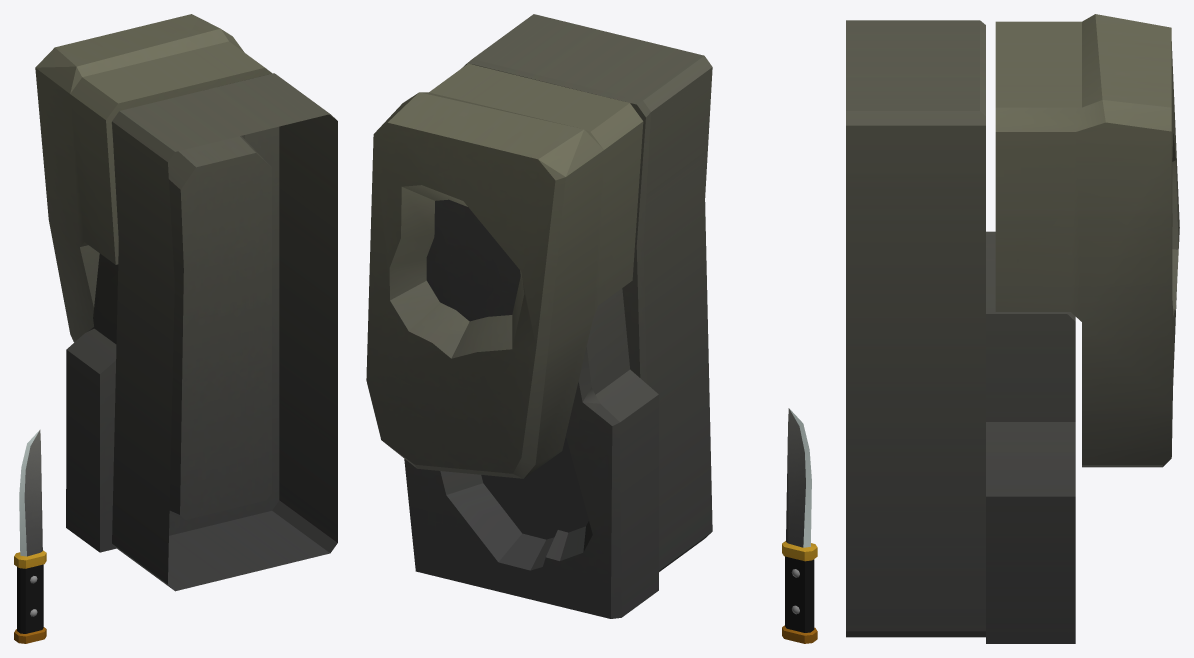
The model's file is treasureknife.FBX.
3 renders of one model, left to right at view 1: azimuth 30°, elevation 25°; view 2: azimuth 150°, elevation 25°; view 3: azimuth 270°, elevation 25°, orthographic. The views are drawn at different scales.
Visible parts, largest first — view 1: treasure, T_cover01, T_cover02, knife; view 2: T_cover01, T_cover02, treasure, knife; view 3: treasure, T_cover01, T_cover02.
Boxes of the visible parts, x1,y1,x2,y2 form: treasure: (111, 73, 337, 591); T_cover01: (35, 14, 272, 342); T_cover02: (66, 253, 118, 552); knife: (14, 429, 46, 643); T_cover01: (366, 63, 643, 478); T_cover02: (404, 288, 658, 618); treasure: (462, 14, 712, 571); knife: (782, 408, 817, 643); treasure: (846, 20, 985, 637); T_cover01: (995, 14, 1179, 467); T_cover02: (986, 231, 1075, 643).
Size of the model in its own units: 37.86 by 57.01 by 29.48.
